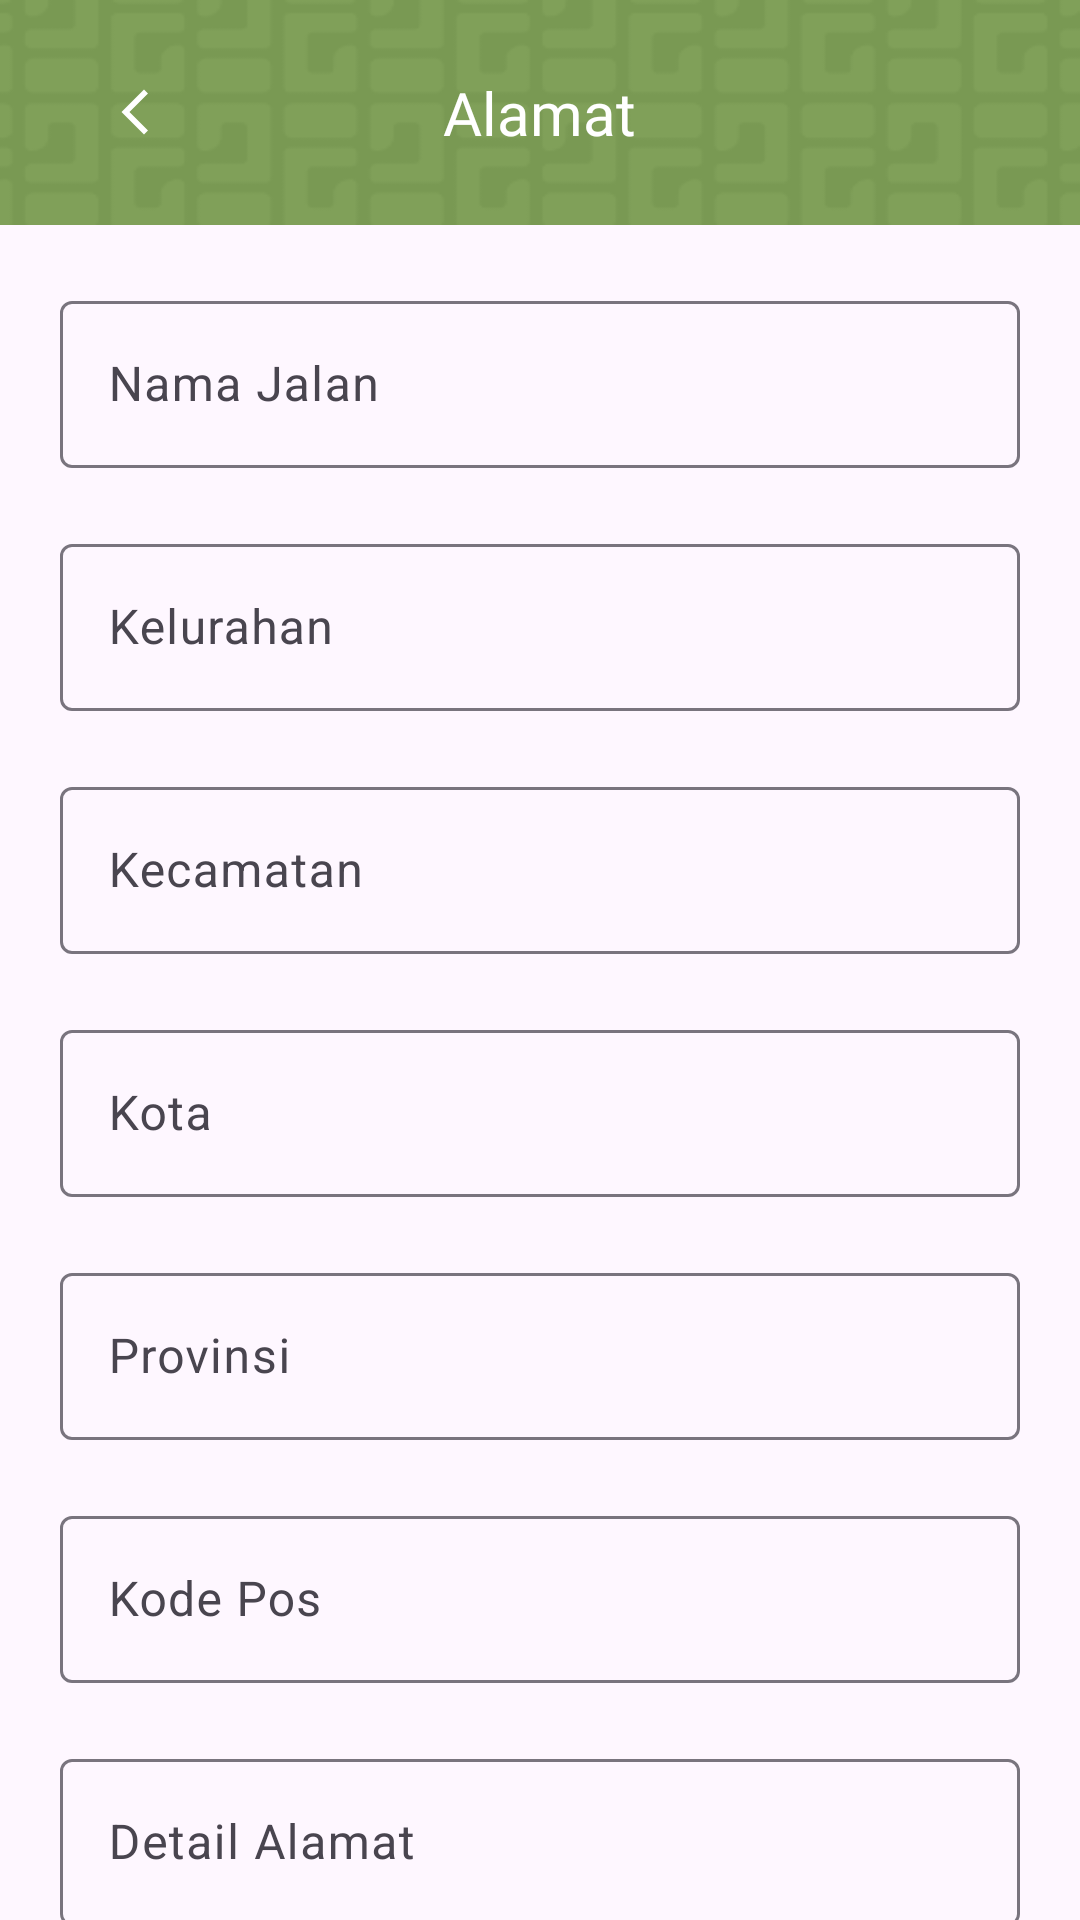

Named icons in this screenshot (1080×1920) and their centers, (x=x, y=y):
back: (x=134, y=112)
